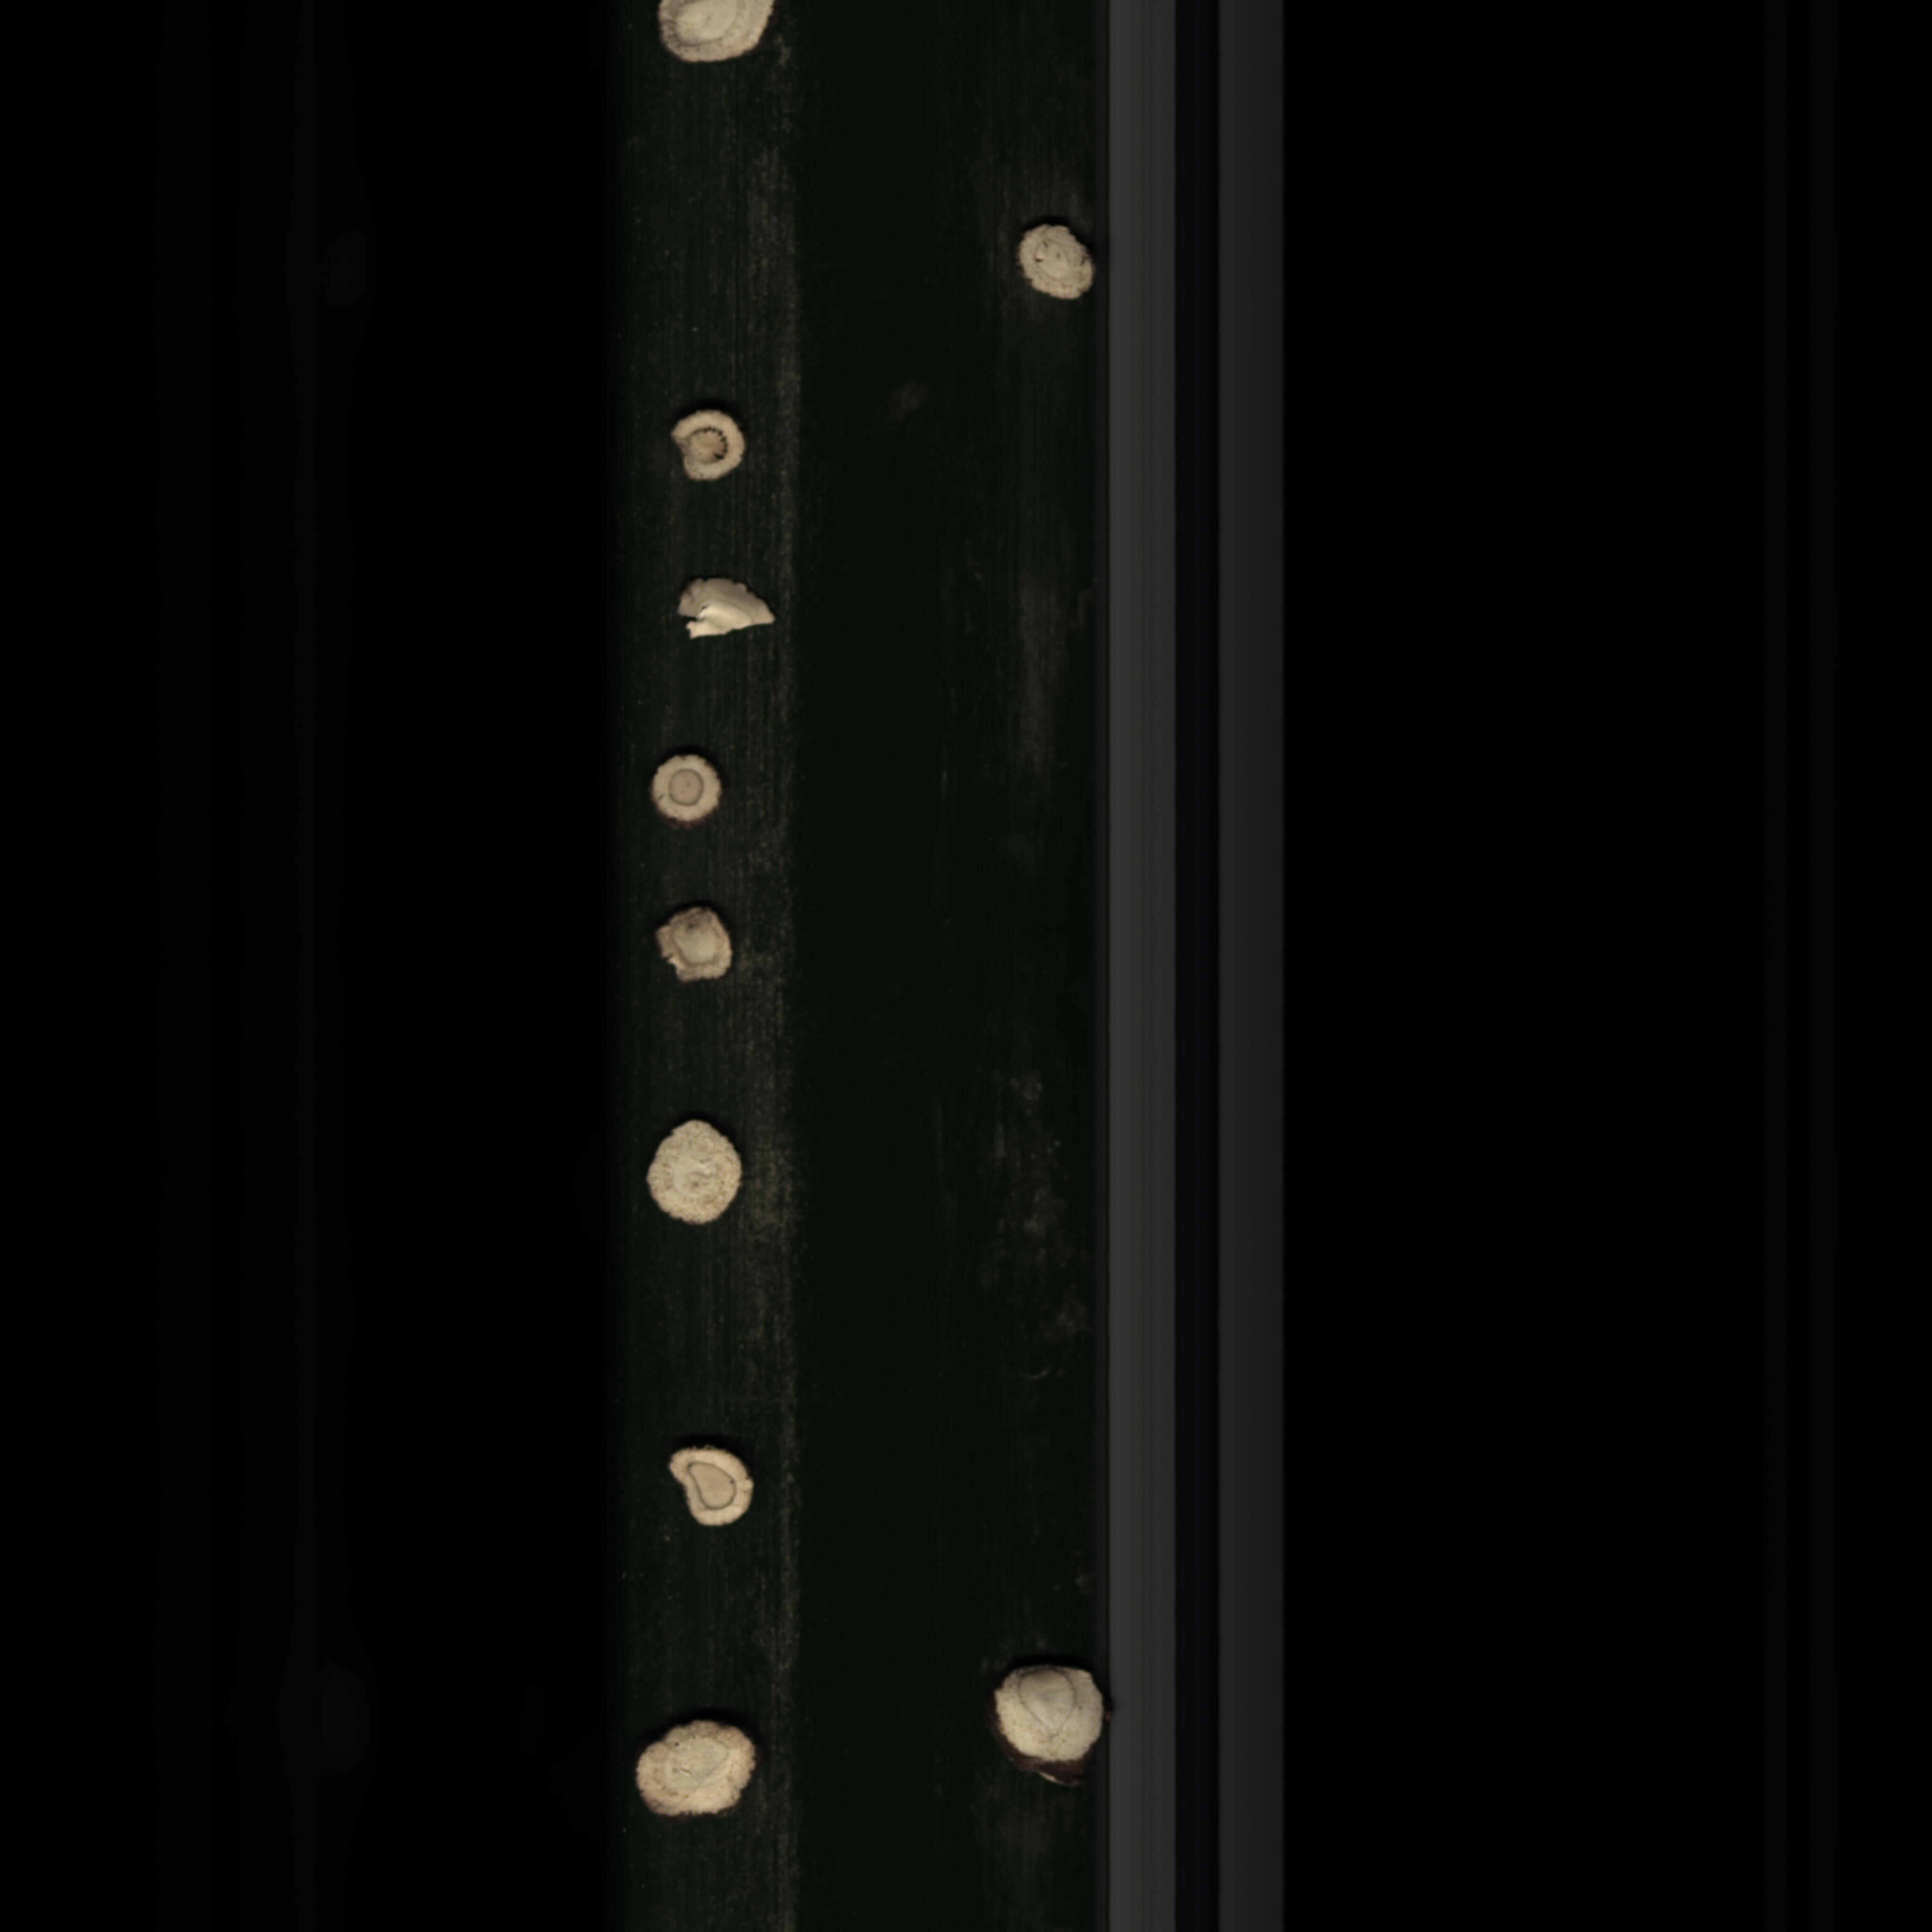debris: (671, 570, 794, 644)
moldy: (984, 1658, 1104, 1792), (640, 902, 741, 993), (637, 750, 734, 837), (667, 403, 757, 488)
